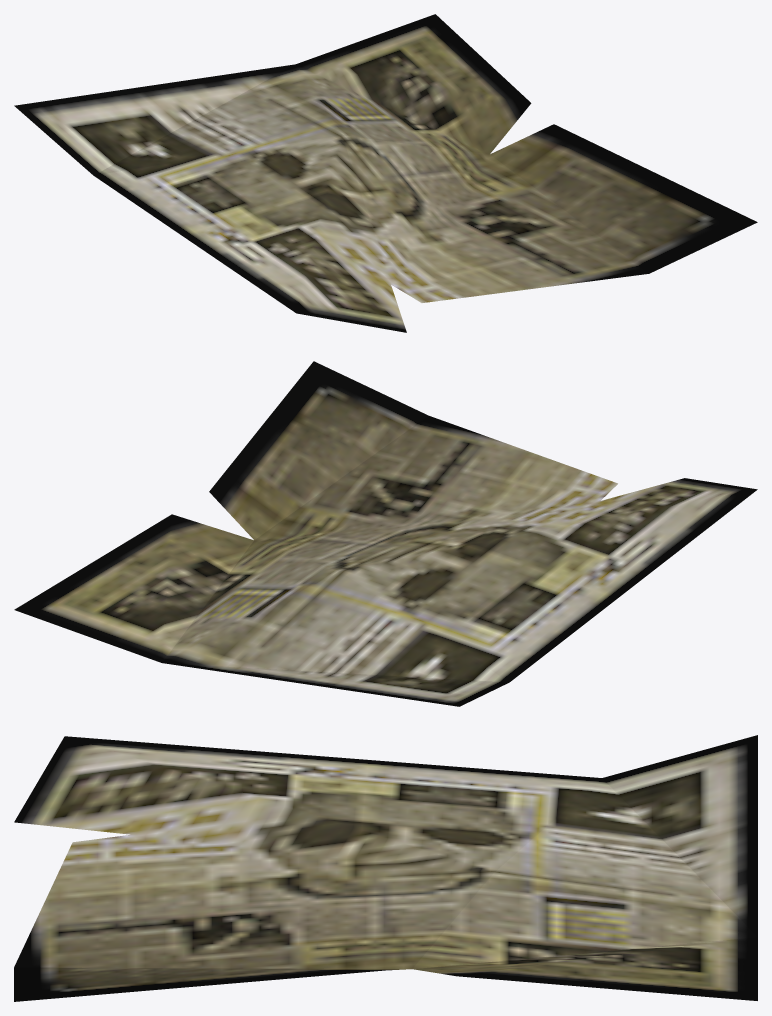
The model's file is M_Home_Garden_paper05.fbx.
3 renders of one model, top to bottom at view 1: azimuth 30°, elevation 25°; view 2: azimuth 150°, elevation 25°; view 3: azimuth 270°, elevation 25°, orthographic. The views are drawn at different scales.
Visible parts, largest first — view 1: M_Home_Garden_paper05; view 2: M_Home_Garden_paper05; view 3: M_Home_Garden_paper05.
Boxes of the visible parts, bbox=[...] form: M_Home_Garden_paper05: bbox=[14, 14, 757, 332]; M_Home_Garden_paper05: bbox=[14, 361, 757, 706]; M_Home_Garden_paper05: bbox=[14, 735, 757, 1001].
Size of the model in its own units: 84 by 4.97 by 100.
